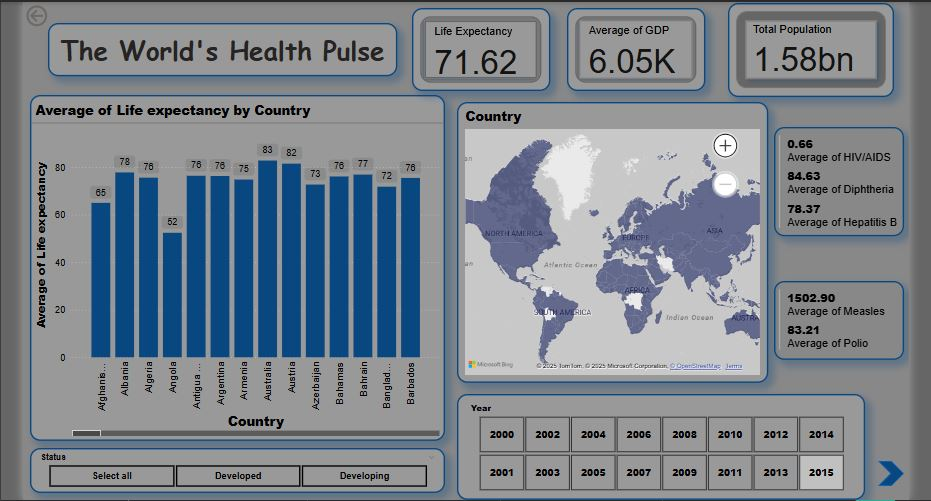

What the dashboard file says about the page in this screenshot:
{"tool":"powerbi","page":{"name":"Country Health Overview","canvas":[1280,720],"ordinal":0},"visuals":[{"type":"clusteredColumnChart","fields":{"Category":["Life Expectancy Data.Country"],"Y":["Avg(Life Expectancy Data.Life expectancy )"]},"box":[10.1,134.5,600,500.2],"z":0},{"type":"slicer","fields":{"Values":["Life Expectancy Data.Status"]},"box":[10.1,644.8,600,65.1],"z":1000},{"type":"actionButton","box":[0,0,100,40],"z":2000},{"type":"cardVisual","fields":{"Data":["Avg(Life Expectancy Data.GDP)"]},"box":[786.5,8.7,199.5,120],"z":3000},{"type":"slicer","fields":{"Values":["Life Expectancy Data.Year.Variation.Date Hierarchy.Year"]},"box":[627.5,566.7,589.9,153.3],"z":4000},{"type":"cardVisual","fields":{"Data":["Life Expectancy Data.Total Population"]},"box":[1019.3,1.4,240,135.9],"z":5000},{"type":"cardVisual","fields":{"Data":["Life Expectancy Data(WHO).Life Expectancy"]},"box":[562.4,8.7,199.5,120],"z":6000},{"type":"filledMap","fields":{"Category":["Life Expectancy Data.Country"]},"box":[627.5,144.6,449.6,406.3],"z":7000},{"type":"multiRowCard","fields":{"Values":["Avg(Life Expectancy Data. HIV/AIDS)","Avg(Life Expectancy Data.Diphtheria )","Avg(Life Expectancy Data.Hepatitis B)"]},"box":[1085.8,180.7,188,157.6],"z":8000},{"type":"multiRowCard","fields":{"Values":["Avg(Life Expectancy Data(WHO).Measles )","Avg(Life Expectancy Data(WHO).Polio)"]},"box":[1085.8,403.4,188,114.2],"z":9000},{"type":"textbox","box":[36.1,30.4,504.6,76.6],"z":10000},{"type":"shape","box":[1236.1,663.6,37.6,36.1],"z":11000}]}

Visuals, with their boxes on the page's 1280x720 design canvas (x1, y1, x2, y2). These are canvas units, not pixel positions in the 931x501 screenshot, which may show the page scaled, cropped or inside an application window:
clusteredColumnChart - Life Expectancy Data.Country x Avg(Life Expectancy Data.Life expectancy ): box=[10, 134, 610, 635]
slicer - Life Expectancy Data.Status: box=[10, 645, 610, 710]
actionButton: box=[0, 0, 100, 40]
cardVisual - Avg(Life Expectancy Data.GDP): box=[786, 9, 986, 129]
slicer - Life Expectancy Data.Year.Variation.Date Hierarchy.Year: box=[628, 567, 1217, 720]
cardVisual - Life Expectancy Data.Total Population: box=[1019, 1, 1259, 137]
cardVisual - Life Expectancy Data(WHO).Life Expectancy: box=[562, 9, 762, 129]
filledMap - Life Expectancy Data.Country: box=[628, 145, 1077, 551]
multiRowCard - Avg(Life Expectancy Data. HIV/AIDS) x Avg(Life Expectancy Data.Diphtheria ): box=[1086, 181, 1274, 338]
multiRowCard - Avg(Life Expectancy Data(WHO).Measles ) x Avg(Life Expectancy Data(WHO).Polio): box=[1086, 403, 1274, 518]
textbox: box=[36, 30, 541, 107]
shape: box=[1236, 664, 1274, 700]
